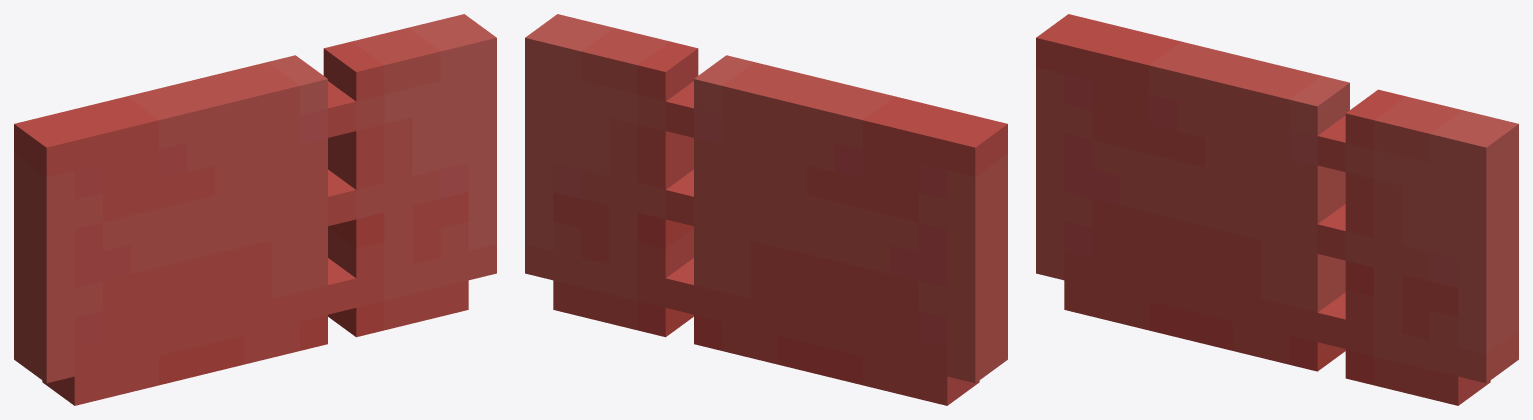
Rendered from ticket-red.glb.
3 views of the same model, side by side, from view 1: azimuth 30°, elevation 25°; view 2: azimuth 150°, elevation 25°; view 3: azimuth 330°, elevation 25° (orthographic).
Visible parts, largest first — view 1: prop; view 2: prop; view 3: prop.
Boxes of the visible parts, left/top/right/bottom form: prop: left=14, top=14, right=496, bottom=405; prop: left=525, top=14, right=1007, bottom=405; prop: left=1036, top=14, right=1518, bottom=405.
Size of the model in its own units: 16 by 9 by 2.
